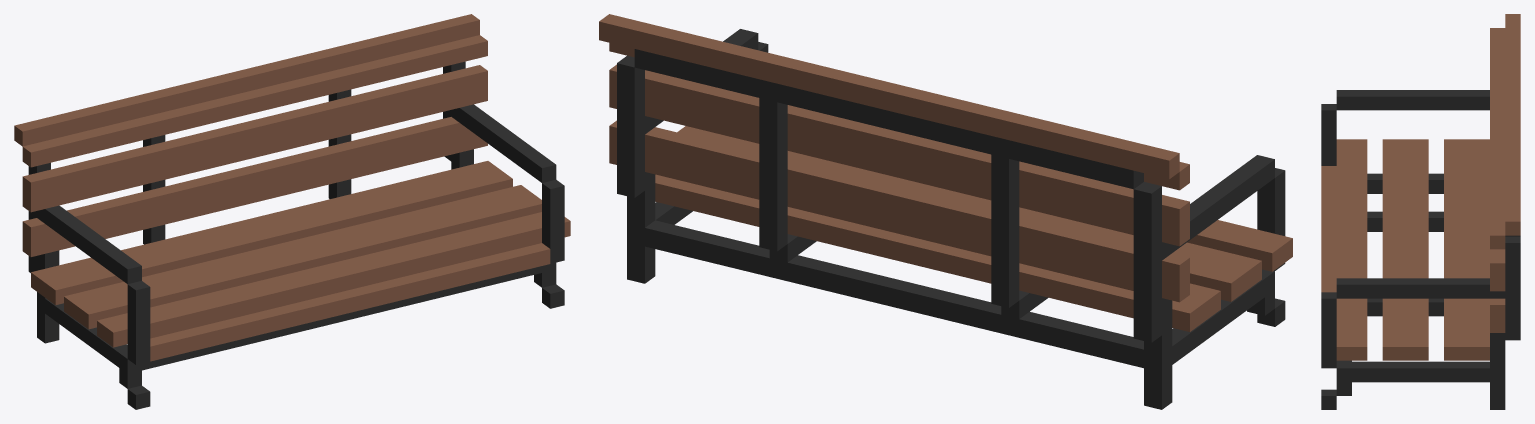
Rendered from Park_Set-8.obj.
The picture shows the model from 3 angles, left to right: view 1: azimuth 30°, elevation 25°; view 2: azimuth 150°, elevation 25°; view 3: azimuth 270°, elevation 25°; orthographic projection. The views are drawn at different scales.
Bounding box in the file's own units: 3.2 × 1.4 × 1.3.
Materials: 1 (1 with a texture image).
